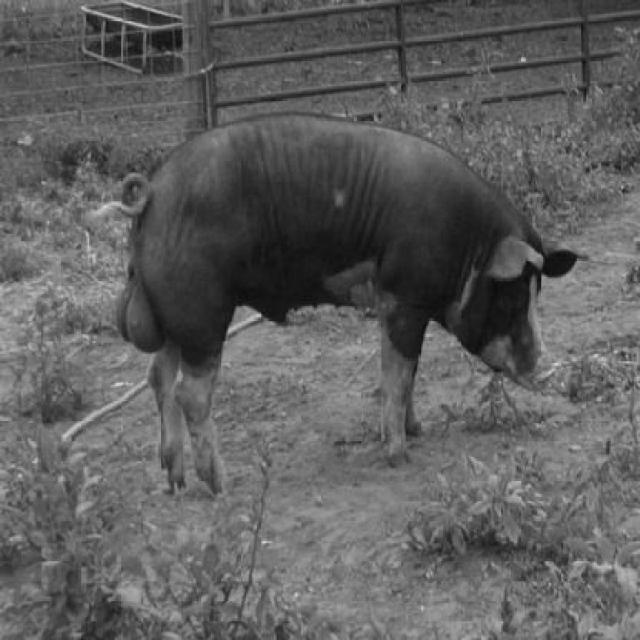Boar: (115, 104, 568, 496)
